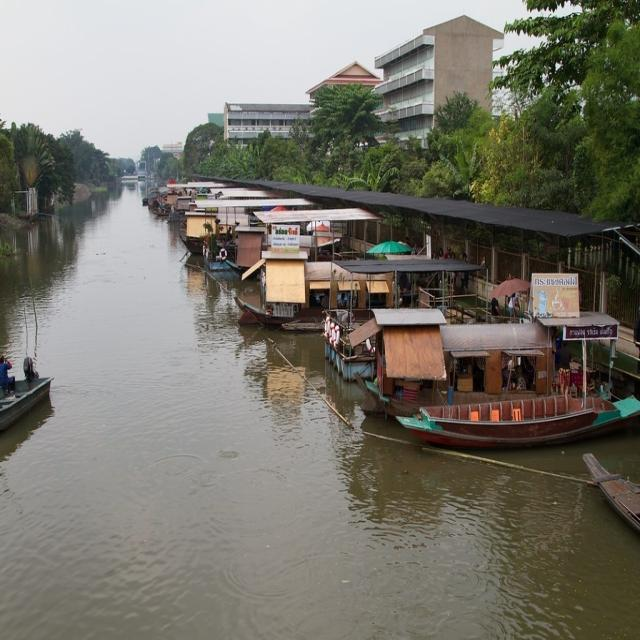boat: (377, 319, 589, 434), (405, 400, 640, 450)
